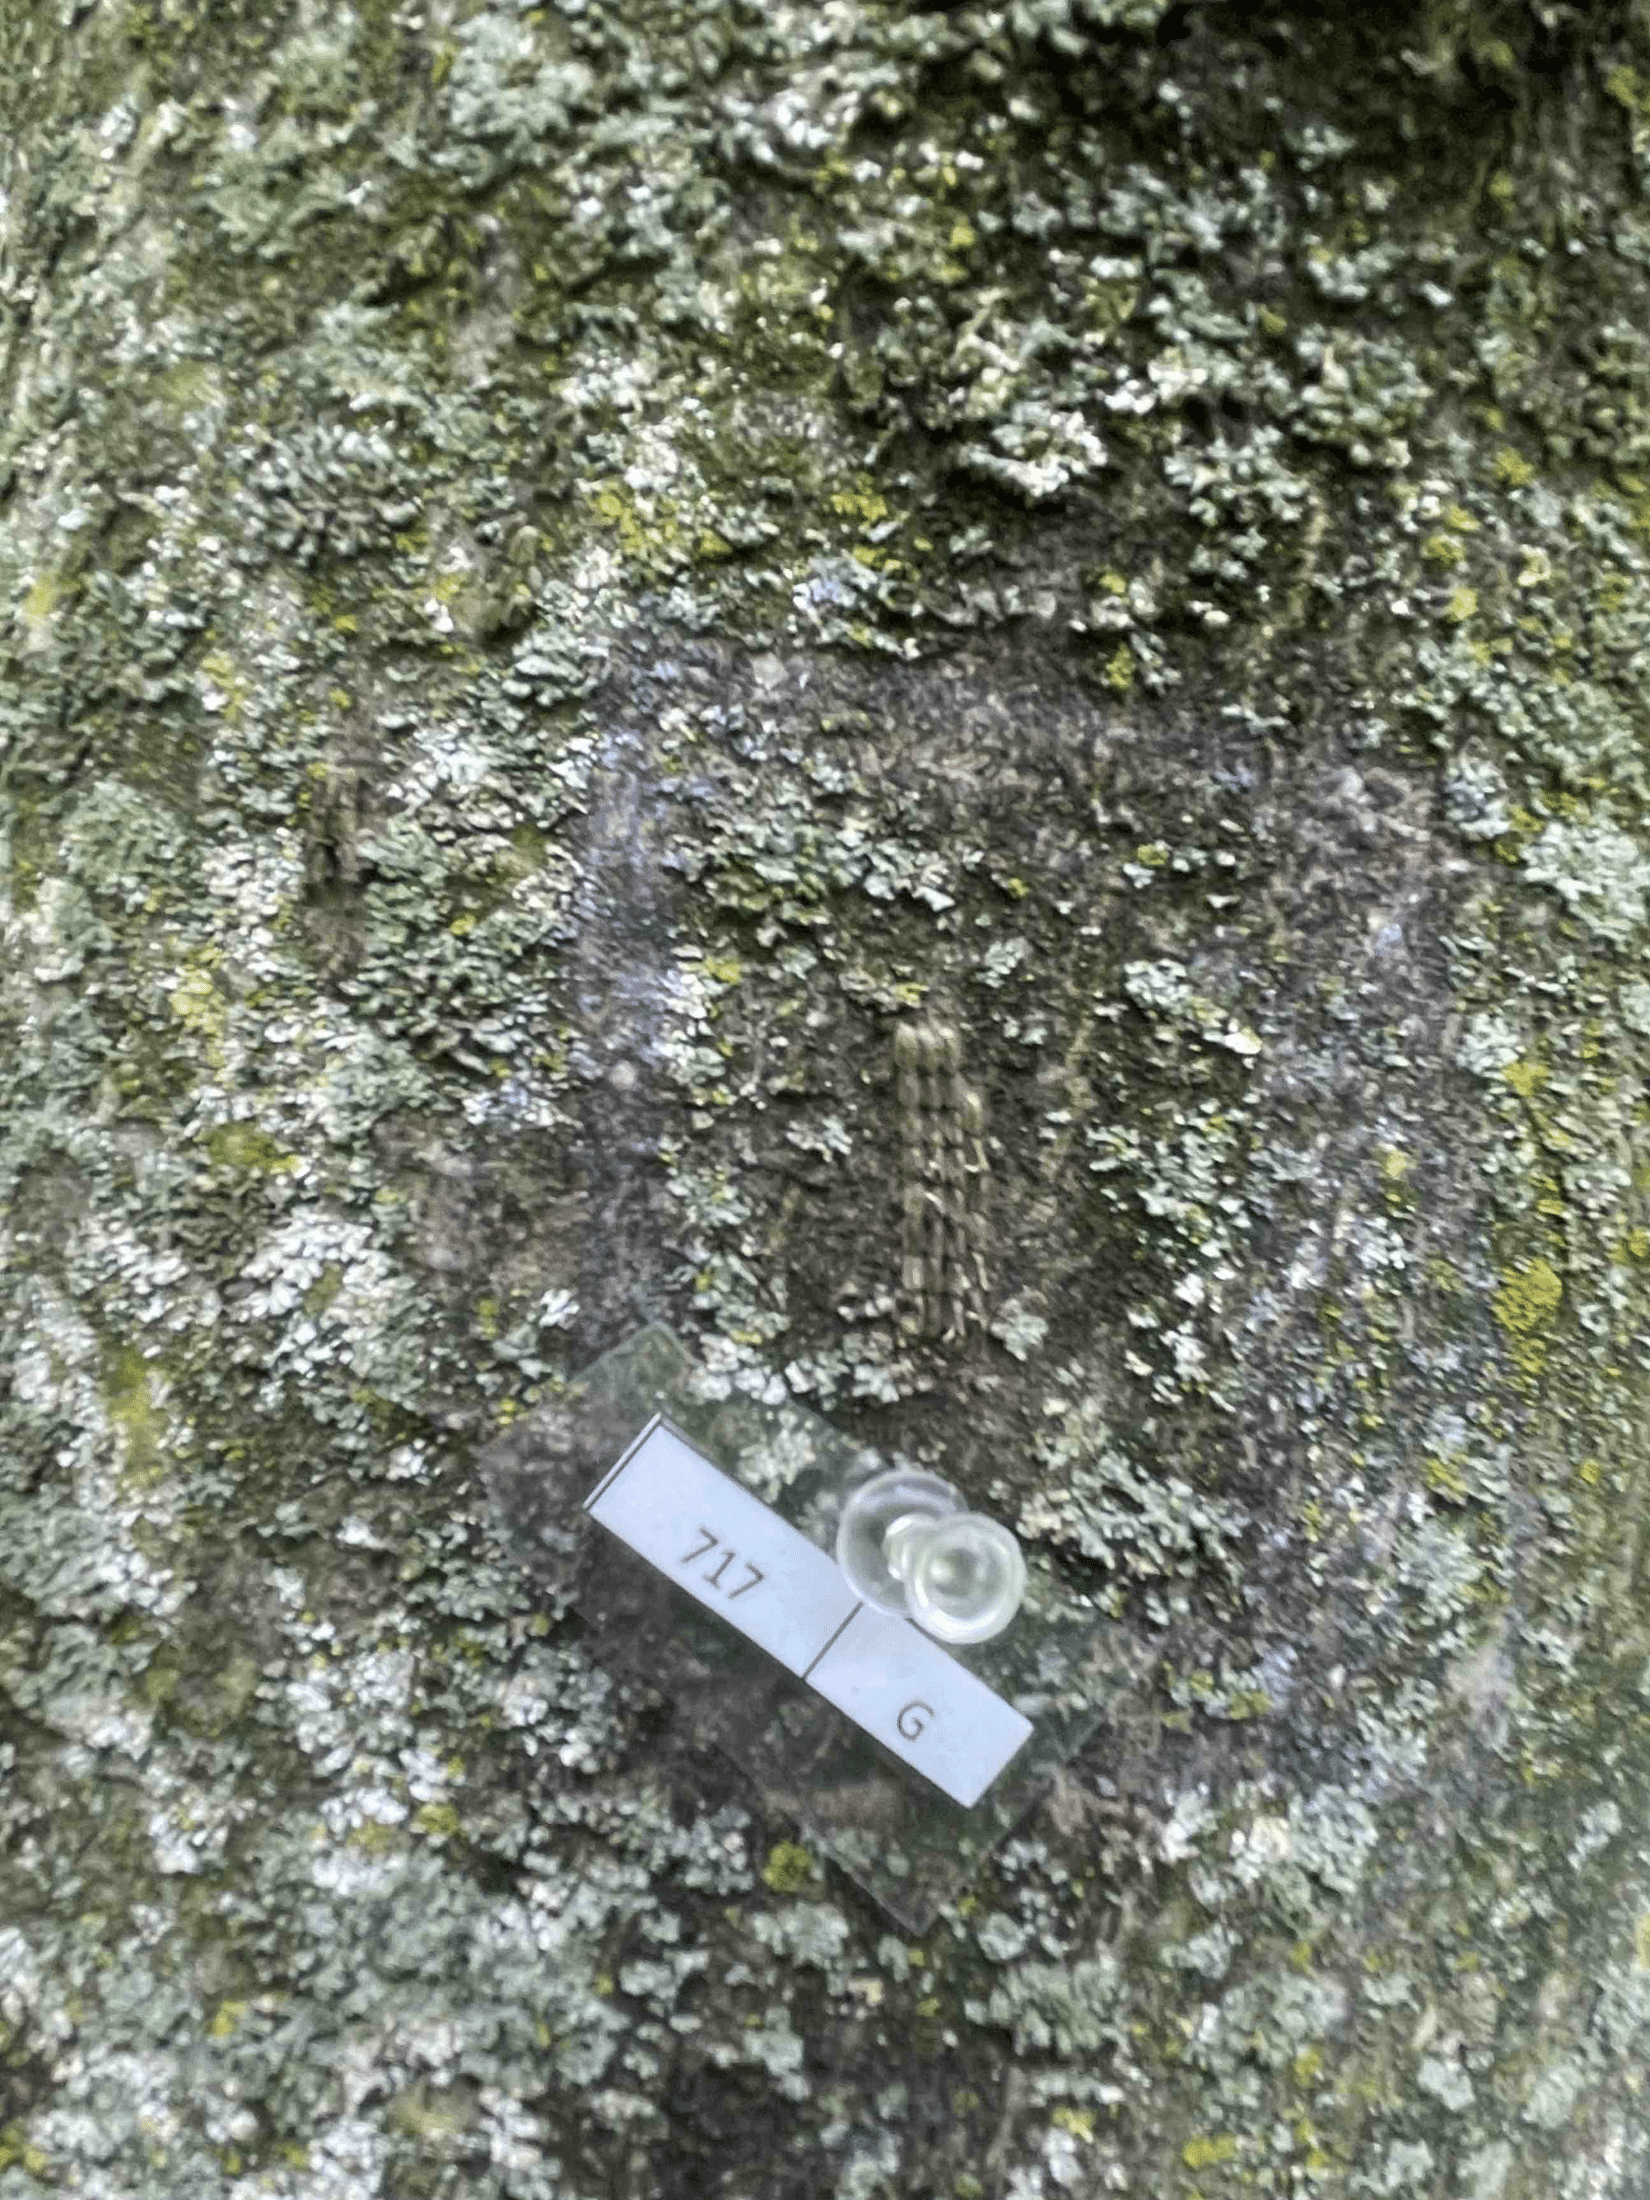egg masses: (880, 1027, 991, 1344)
